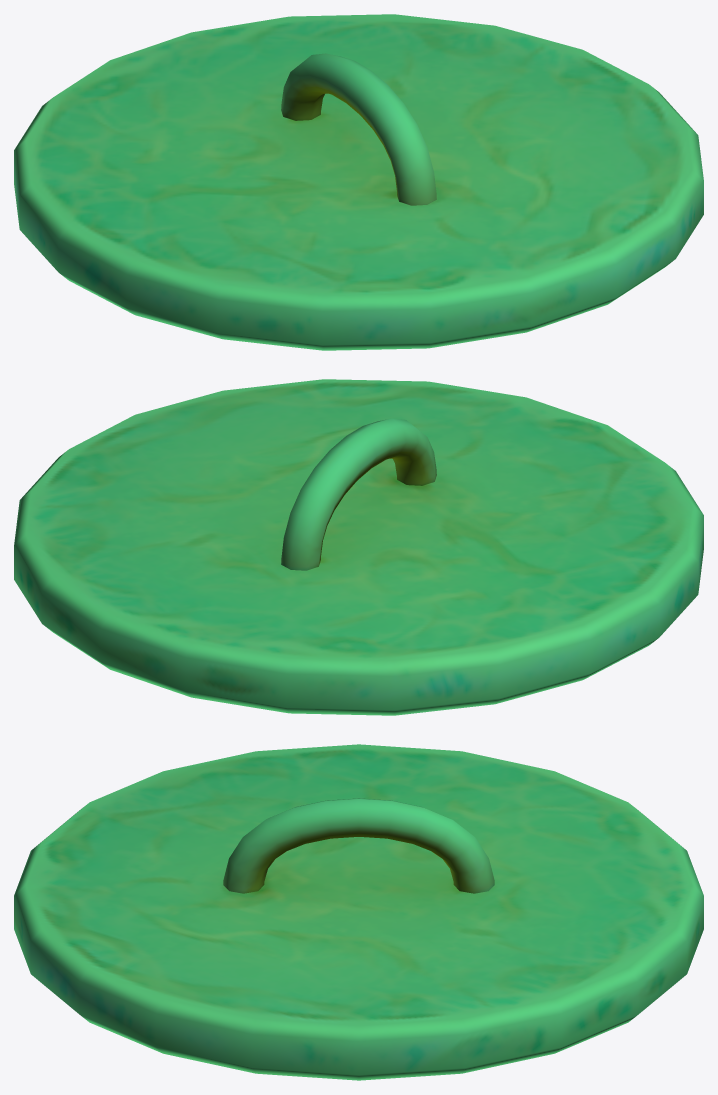
Rendered from Trapdoor.fbx.
3 renders of one model, top to bottom at view 1: azimuth 30°, elevation 25°; view 2: azimuth 150°, elevation 25°; view 3: azimuth 270°, elevation 25°, orthographic.
Visible parts, largest first — view 1: Trapdoor; view 2: Trapdoor; view 3: Trapdoor.
Part boxes in pixels (<box>): Trapdoor: <box>14,14,703,350</box>; Trapdoor: <box>14,379,703,715</box>; Trapdoor: <box>14,744,703,1080</box>.
Bounding box in the file's own units: 77.4 × 17.43 × 77.4.
